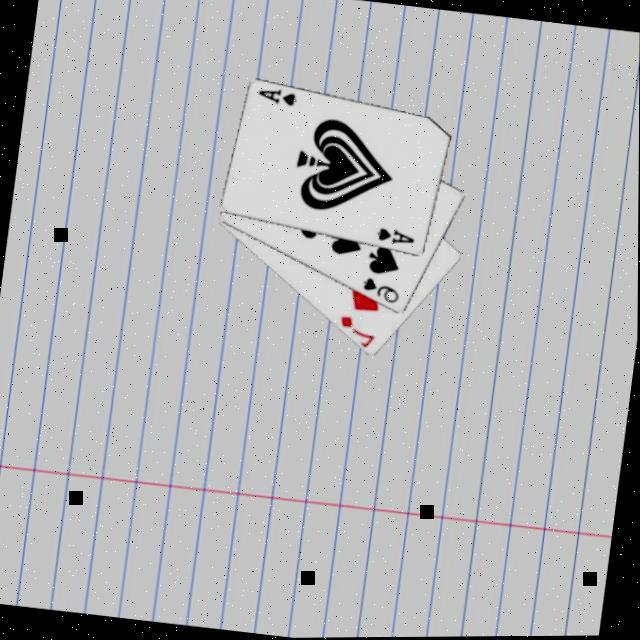7D: (335, 314, 381, 353)
9S: (358, 276, 405, 310)
AS: (255, 86, 301, 112), (374, 226, 419, 252)
